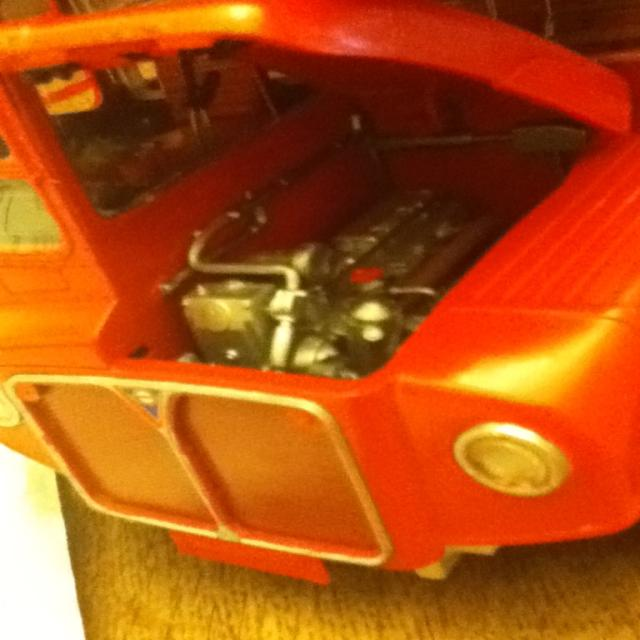car: (0, 3, 638, 590)
